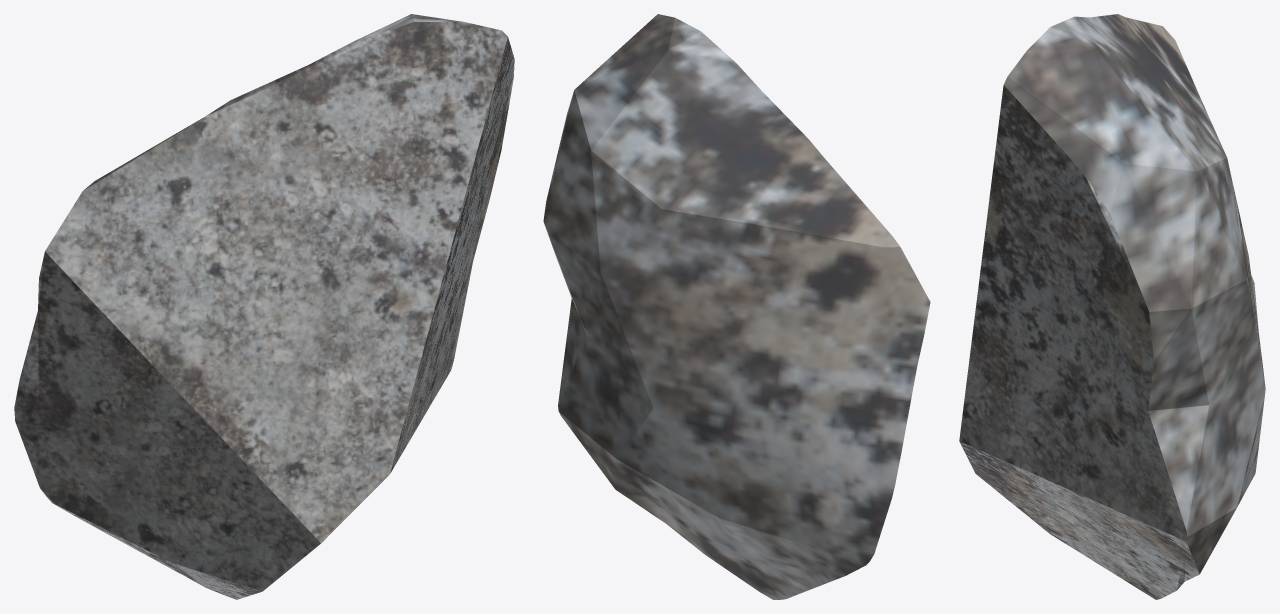
The model's file is Asteroid_Medium_001_02_006_03_003.fbx.
3 renders of one model, left to right at view 1: azimuth 30°, elevation 25°; view 2: azimuth 150°, elevation 25°; view 3: azimuth 270°, elevation 25°, orthographic. The views are drawn at different scales.
Parts seen in each view (by area): view 1: Asteroid_Medium_001_02_006_03_003; view 2: Asteroid_Medium_001_02_006_03_003; view 3: Asteroid_Medium_001_02_006_03_003.
Boxes of the visible parts, x1,y1,x2,y2 form: Asteroid_Medium_001_02_006_03_003: (14, 14, 514, 599); Asteroid_Medium_001_02_006_03_003: (543, 14, 930, 599); Asteroid_Medium_001_02_006_03_003: (959, 14, 1265, 599).
Size of the model in its own units: 12.96 by 16.09 by 6.95.
